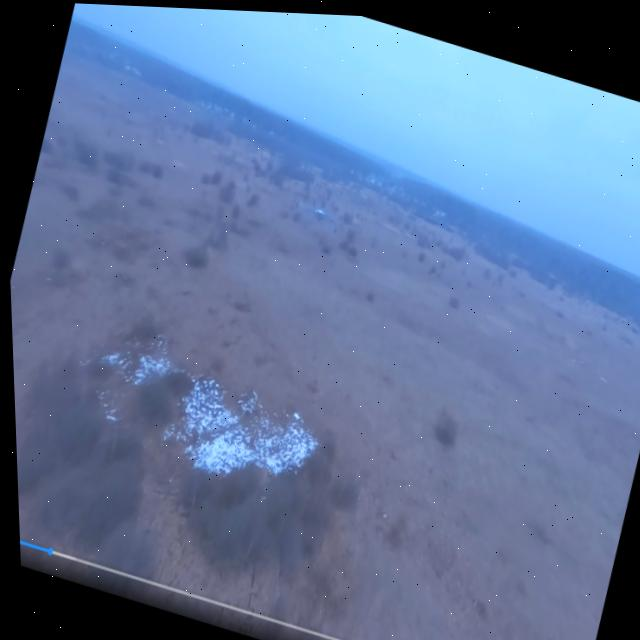planedrone: (294, 194, 348, 233)
